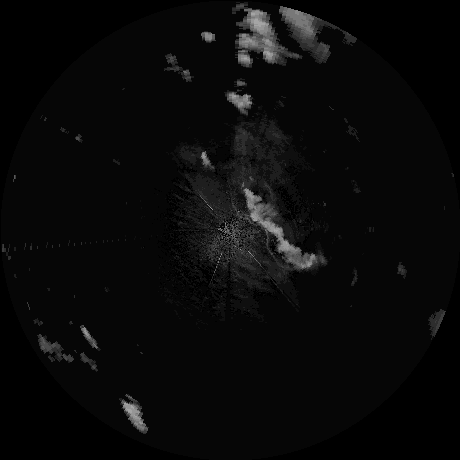frontgust: (263, 227, 294, 271), (229, 195, 256, 226), (260, 180, 275, 204)
